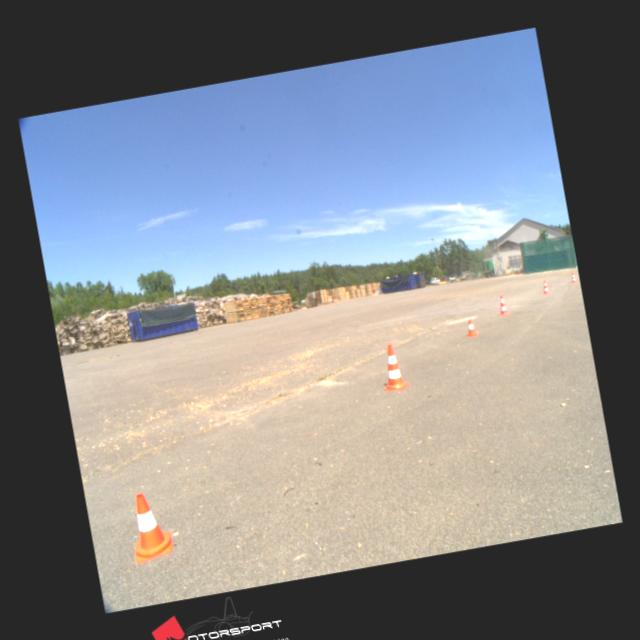large_orange_cone: (376, 341, 408, 391), (496, 294, 508, 314), (540, 280, 550, 294), (569, 270, 577, 283)
orange_cone: (124, 490, 172, 556), (463, 318, 478, 336)
